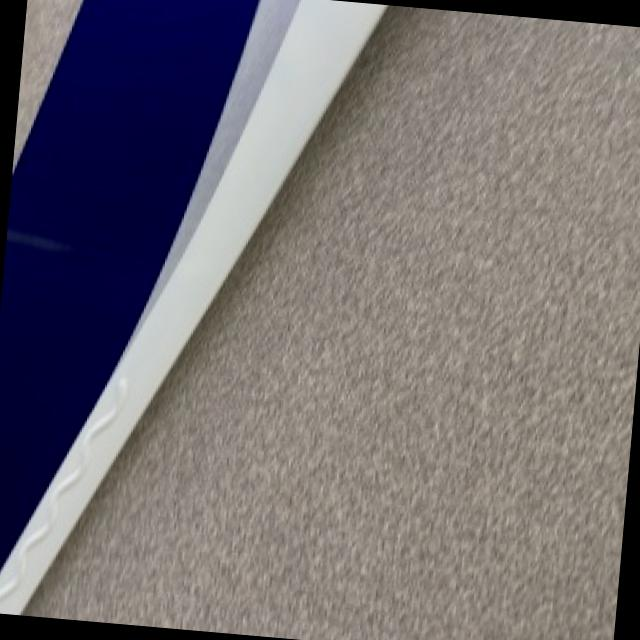healthy: (25, 5, 640, 640), (0, 0, 388, 613)
